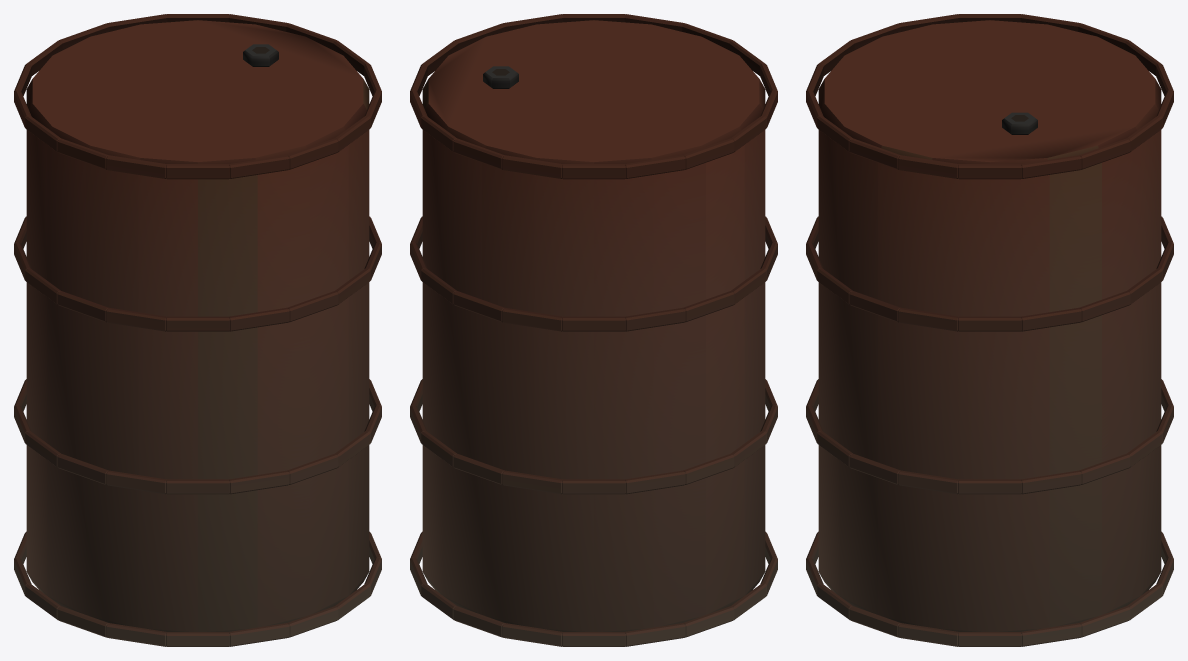
File: drum_1.glb
The picture shows the model from 3 angles, left to right: view 1: azimuth 30°, elevation 25°; view 2: azimuth 150°, elevation 25°; view 3: azimuth 270°, elevation 25°; orthographic projection.
Parts seen in each view (by area): view 1: dark-001; view 2: dark-001; view 3: dark-001.
Part boxes in pixels (x1,y1,x2,y2): dark-001: (14, 14, 381, 646); dark-001: (410, 14, 777, 646); dark-001: (806, 14, 1173, 646).
Size of the model in its own units: 0.604 by 0.9025 by 0.6128.
